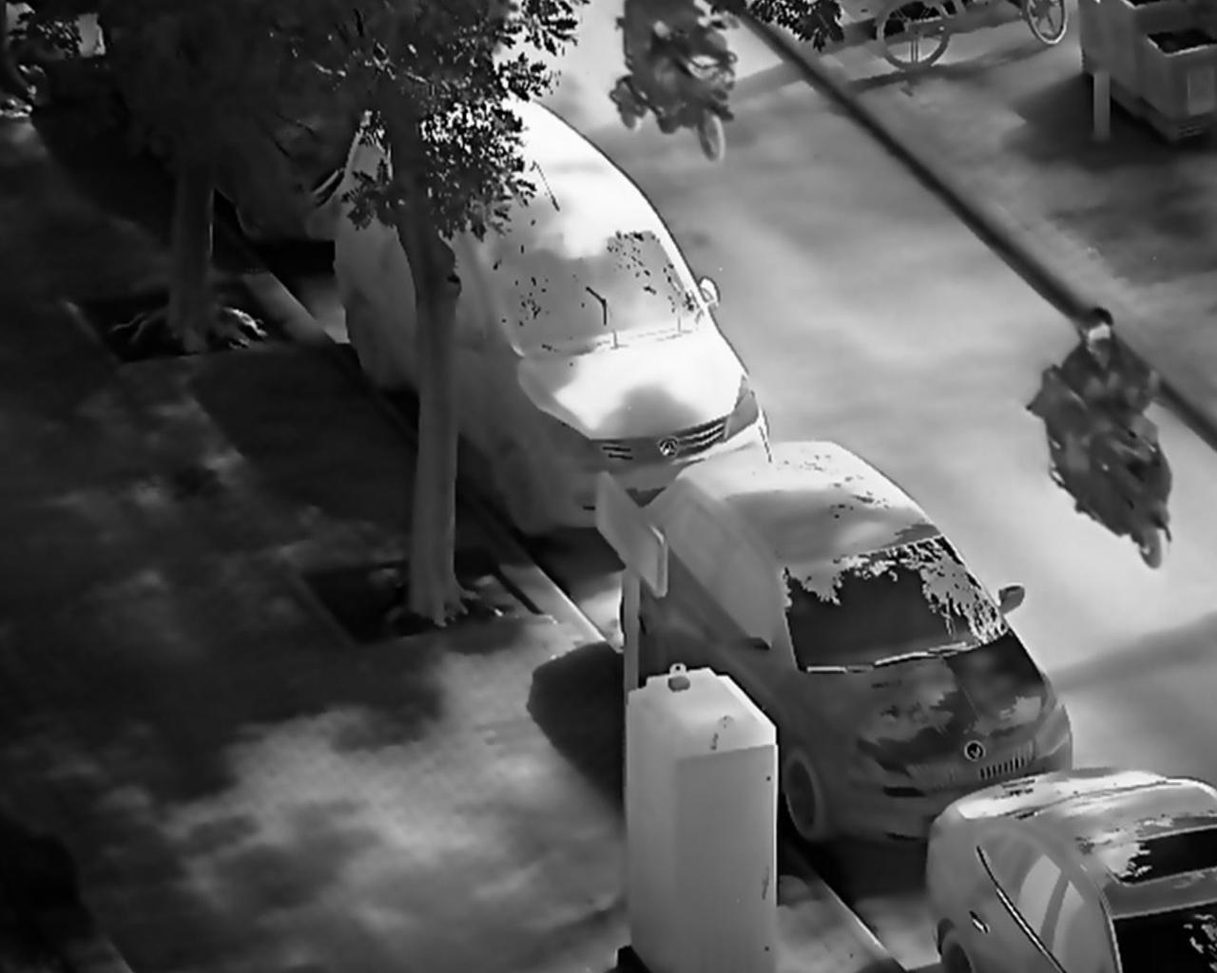person: (1059, 306, 1158, 496)
